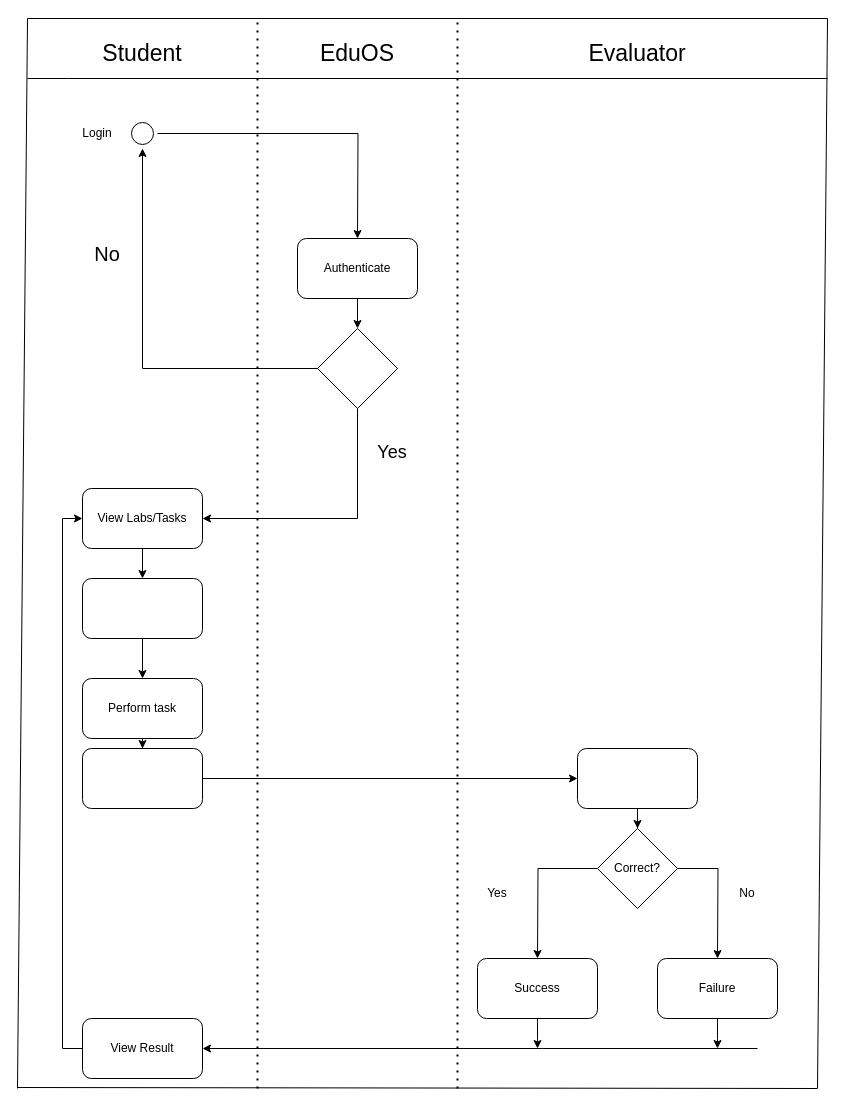
This 846x1107 diagram has some shape labels left out. The shapes that lost their labels are listed below. From the top down, each one's centre as x and y in pixels, then its label:
At point (357, 368): "Valid?".
At point (142, 608): "Select Lab".
At point (142, 778): "Submit Work".
At point (637, 778): "Evaluate Submission".
